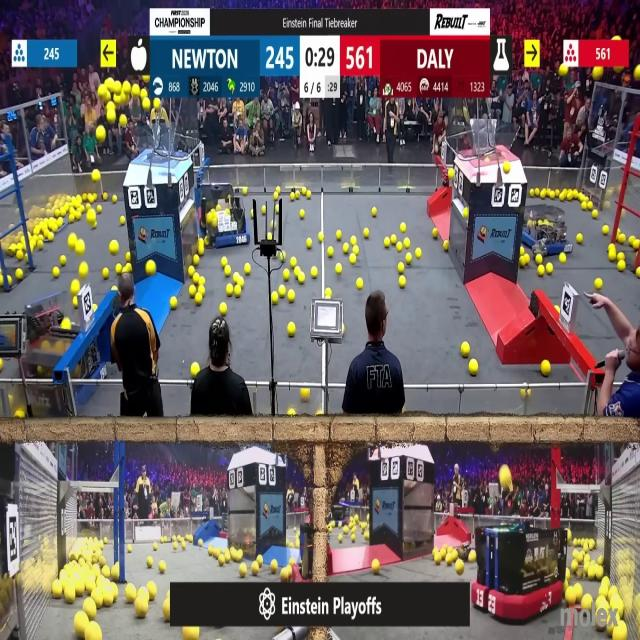ball_airborne: (500, 468, 510, 488), (97, 127, 106, 143), (79, 264, 87, 280), (71, 280, 79, 294), (122, 80, 130, 94), (107, 110, 116, 122), (594, 67, 602, 80), (110, 241, 118, 254), (142, 99, 150, 111), (68, 236, 76, 248), (76, 242, 84, 254), (89, 211, 97, 223), (93, 170, 101, 182), (560, 65, 568, 77), (99, 87, 107, 98), (132, 86, 140, 97), (106, 78, 114, 89), (114, 80, 121, 92), (152, 99, 160, 109), (119, 114, 125, 126), (140, 90, 148, 99), (635, 66, 640, 80), (503, 163, 509, 174), (114, 95, 120, 105), (150, 109, 155, 120), (449, 169, 454, 179)
ball_ground: (136, 598, 148, 618), (86, 601, 98, 618), (186, 627, 200, 640), (127, 586, 137, 604), (64, 585, 75, 601), (103, 592, 114, 607), (91, 626, 102, 640), (164, 600, 171, 621), (565, 589, 574, 605), (583, 596, 593, 610), (540, 360, 549, 375), (54, 584, 63, 599), (111, 564, 119, 580), (148, 584, 156, 600), (146, 263, 155, 277), (468, 359, 476, 374), (461, 343, 469, 357), (233, 551, 242, 563), (190, 362, 198, 375), (302, 388, 310, 401), (282, 567, 290, 580), (456, 561, 464, 574), (288, 322, 295, 336), (240, 563, 247, 577), (595, 278, 603, 290), (371, 560, 378, 573), (596, 566, 603, 579), (278, 286, 286, 297), (520, 255, 528, 266), (102, 566, 110, 577), (588, 568, 596, 579), (220, 304, 227, 316), (171, 296, 178, 308), (226, 284, 233, 296), (272, 291, 279, 303), (272, 560, 278, 574), (160, 561, 167, 573), (434, 553, 441, 565), (112, 588, 118, 602), (324, 288, 332, 298), (608, 251, 616, 261), (187, 286, 195, 296), (618, 235, 626, 245), (194, 293, 201, 304), (619, 262, 626, 273), (283, 270, 290, 281), (545, 265, 552, 276), (15, 270, 22, 281), (537, 267, 544, 278), (115, 265, 122, 276), (312, 268, 319, 279), (54, 268, 61, 279), (223, 267, 230, 278), (468, 552, 475, 563), (236, 285, 242, 297), (398, 276, 404, 288), (288, 290, 294, 302), (103, 268, 109, 280), (72, 295, 78, 307), (252, 563, 258, 575), (198, 286, 206, 295), (125, 265, 133, 274), (15, 412, 23, 421), (297, 274, 304, 284), (244, 266, 251, 276), (356, 279, 363, 289), (187, 268, 194, 278), (126, 252, 133, 262), (37, 240, 44, 250), (69, 214, 76, 224), (290, 256, 296, 267), (61, 255, 67, 266), (416, 248, 422, 259), (407, 253, 413, 264), (6, 276, 12, 287), (191, 275, 198, 284), (632, 239, 639, 248), (536, 254, 542, 264), (560, 253, 566, 263), (147, 557, 153, 567), (576, 234, 582, 244), (603, 224, 609, 234), (337, 265, 343, 275), (327, 247, 333, 257), (384, 238, 390, 248), (192, 255, 198, 265), (397, 264, 403, 274), (344, 244, 350, 254), (350, 254, 356, 264), (199, 245, 205, 255), (218, 556, 224, 566), (234, 274, 240, 284), (256, 556, 262, 566), (572, 561, 578, 571), (619, 252, 626, 260), (445, 241, 450, 252), (364, 531, 369, 542), (363, 230, 369, 239), (352, 246, 358, 255), (221, 257, 227, 266), (47, 233, 53, 242), (579, 202, 585, 211), (16, 251, 22, 260), (299, 209, 304, 219), (308, 239, 313, 249), (593, 209, 598, 219), (59, 216, 64, 226), (370, 208, 376, 216), (403, 240, 409, 248), (288, 410, 294, 418), (318, 234, 324, 242), (390, 236, 396, 244), (200, 277, 206, 285), (0, 276, 4, 288), (588, 202, 594, 210), (540, 190, 546, 198), (351, 238, 357, 246), (396, 244, 402, 252), (239, 278, 245, 286), (242, 187, 248, 195), (609, 244, 615, 252), (604, 202, 610, 210), (432, 230, 437, 239), (522, 389, 527, 398), (636, 268, 640, 279), (0, 358, 4, 369), (259, 207, 265, 214), (199, 539, 205, 546), (93, 305, 99, 312), (316, 411, 322, 418), (112, 194, 117, 202), (290, 192, 295, 200), (128, 543, 133, 551), (520, 247, 525, 255), (173, 541, 178, 549), (276, 185, 281, 193), (187, 534, 192, 542), (89, 192, 94, 200), (338, 232, 342, 241), (400, 222, 404, 231), (209, 549, 213, 558), (274, 192, 279, 199), (294, 540, 299, 547), (93, 221, 98, 228), (366, 515, 371, 522), (120, 216, 124, 224), (269, 234, 273, 242), (98, 206, 102, 214), (276, 206, 280, 214), (308, 190, 312, 198), (530, 188, 534, 196), (340, 534, 344, 542), (352, 534, 356, 542), (250, 210, 254, 218), (556, 306, 560, 314), (294, 192, 299, 198), (152, 542, 156, 549), (290, 558, 294, 565), (104, 192, 108, 199), (345, 527, 349, 534), (162, 536, 166, 542), (112, 285, 115, 292)
goal: (466, 122, 522, 160), (129, 129, 188, 159)
robot_blue: (199, 187, 248, 248), (520, 204, 570, 256), (340, 475, 368, 507)
robot_red: (471, 520, 565, 623), (17, 320, 102, 411), (217, 516, 228, 537)
